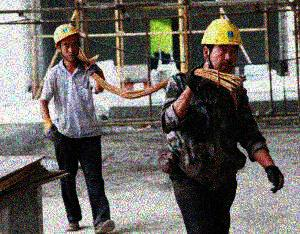helmet: (201, 17, 244, 74), (53, 22, 82, 61)
